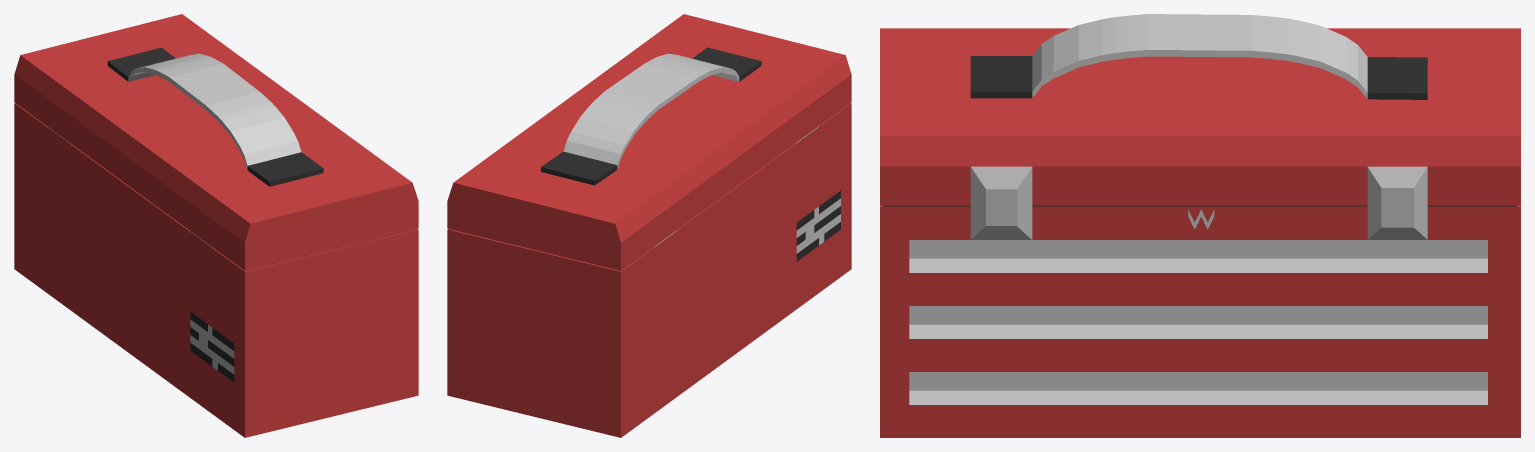
The model's file is ToolsBox.fbx.
3 views of the same model, side by side, from view 1: azimuth 30°, elevation 25°; view 2: azimuth 150°, elevation 25°; view 3: azimuth 270°, elevation 25° (orthographic). The views are drawn at different scales.
Parts seen in each view (by area): view 1: Cube; view 2: Cube; view 3: Cube.
Part boxes in pixels (left/top/right/bottom): Cube: left=14, top=14, right=418, bottom=437; Cube: left=447, top=14, right=851, bottom=437; Cube: left=880, top=14, right=1520, bottom=437.
Bounding box in the file's own units: 269 × 369 × 600.
